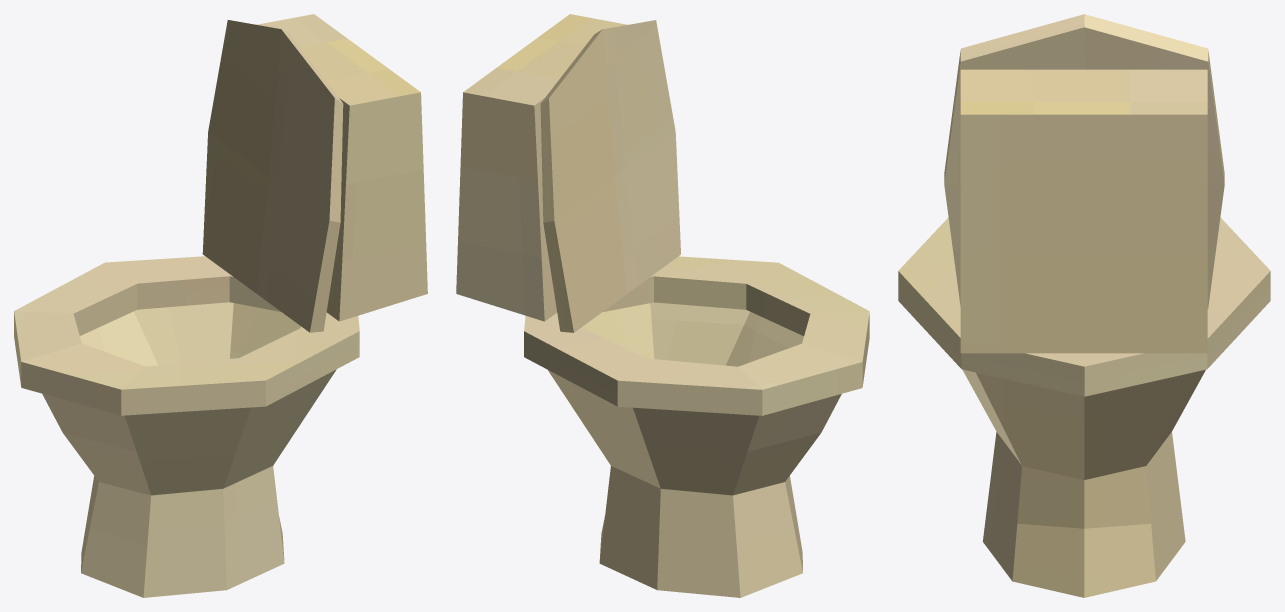
File: klozet.fbx
The picture shows the model from 3 angles, left to right: view 1: azimuth 30°, elevation 25°; view 2: azimuth 150°, elevation 25°; view 3: azimuth 270°, elevation 25°; orthographic projection. The views are drawn at different scales.
Visible parts, largest first — view 1: Klozet, Kapak_Outside, Kapak_Insıde; view 2: Klozet, Kapak_Outside, Kapak_Insıde; view 3: Klozet, Kapak_Insıde, Kapak_Outside.
Boxes of the visible parts, bbox=[...] form: Klozet: bbox=[42, 14, 427, 597]; Kapak_Outside: bbox=[202, 20, 343, 332]; Kapak_Insıde: bbox=[14, 256, 359, 415]; Klozet: bbox=[456, 14, 841, 597]; Kapak_Outside: bbox=[540, 20, 680, 332]; Kapak_Insıde: bbox=[524, 256, 869, 415]; Klozet: bbox=[960, 69, 1207, 597]; Kapak_Insıde: bbox=[898, 217, 1270, 396]; Kapak_Outside: bbox=[944, 14, 1224, 308].
Size of the model in its own units: 72.11 by 98.53 by 57.01.
Materials: 1 (1 with a texture image).
